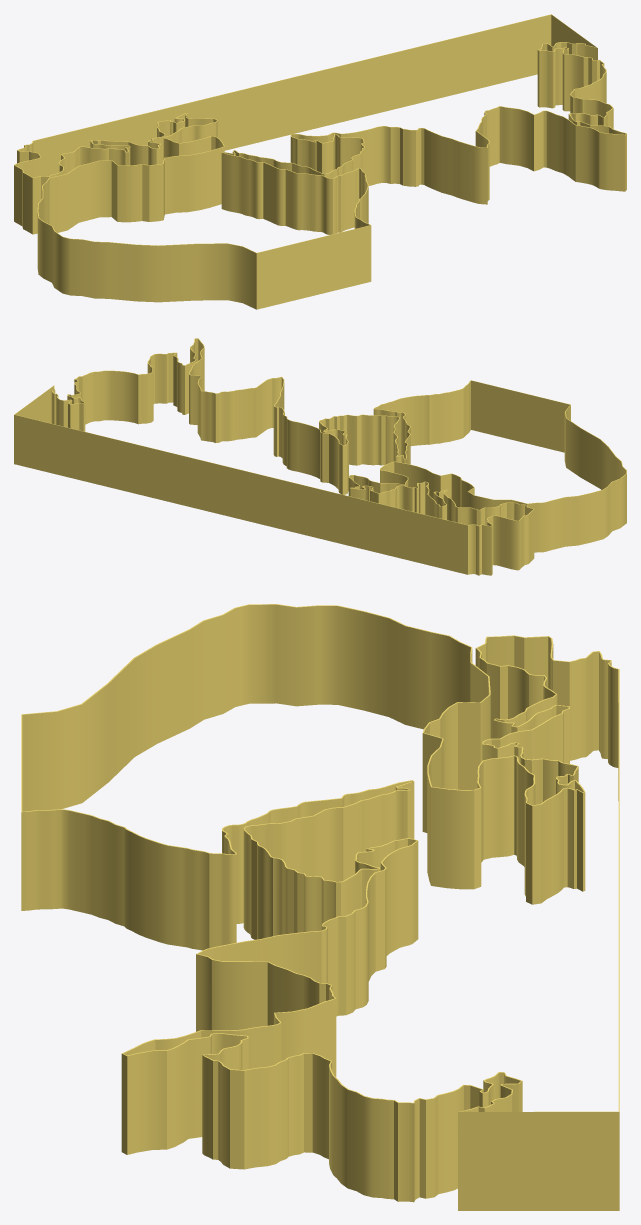
The model's file is MapBoundary2.fbx.
3 views of the same model, one above another, from view 1: azimuth 30°, elevation 25°; view 2: azimuth 150°, elevation 25°; view 3: azimuth 270°, elevation 25° (orthographic). The views are drawn at different scales.
Parts seen in each view (by area): view 1: Map_Boundary; view 2: Map_Boundary; view 3: Map_Boundary.
Part boxes in pixels (bbox=[...]): Map_Boundary: bbox=[14, 14, 626, 309]; Map_Boundary: bbox=[14, 338, 626, 575]; Map_Boundary: bbox=[21, 604, 619, 1210].
Size of the model in its own units: 494 by 44.83 by 246.
